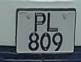0: (40, 32, 53, 53)
8: (27, 32, 40, 53)
9: (51, 31, 65, 53)
L: (46, 11, 60, 33)
P: (33, 10, 47, 34)
